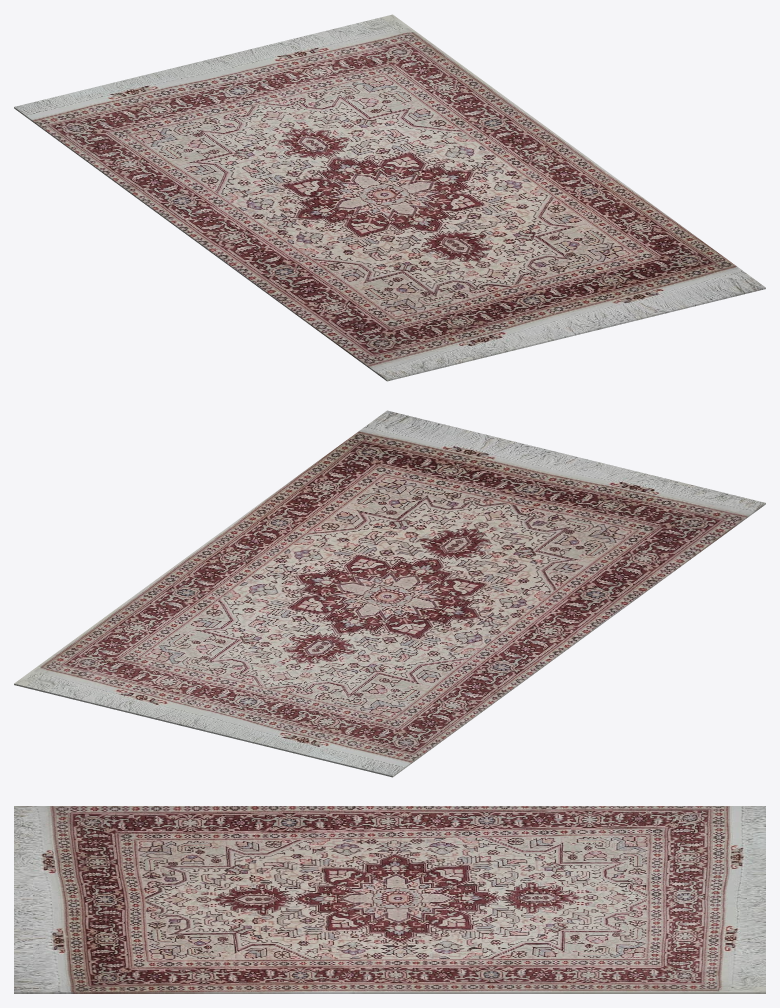
The picture shows the model from 3 angles, top to bottom: view 1: azimuth 30°, elevation 25°; view 2: azimuth 150°, elevation 25°; view 3: azimuth 270°, elevation 25°; orthographic projection.
Bounding box in the file's own units: 1.4 × 0.00503 × 2.39.
Materials: 1 (1 with a texture image).
